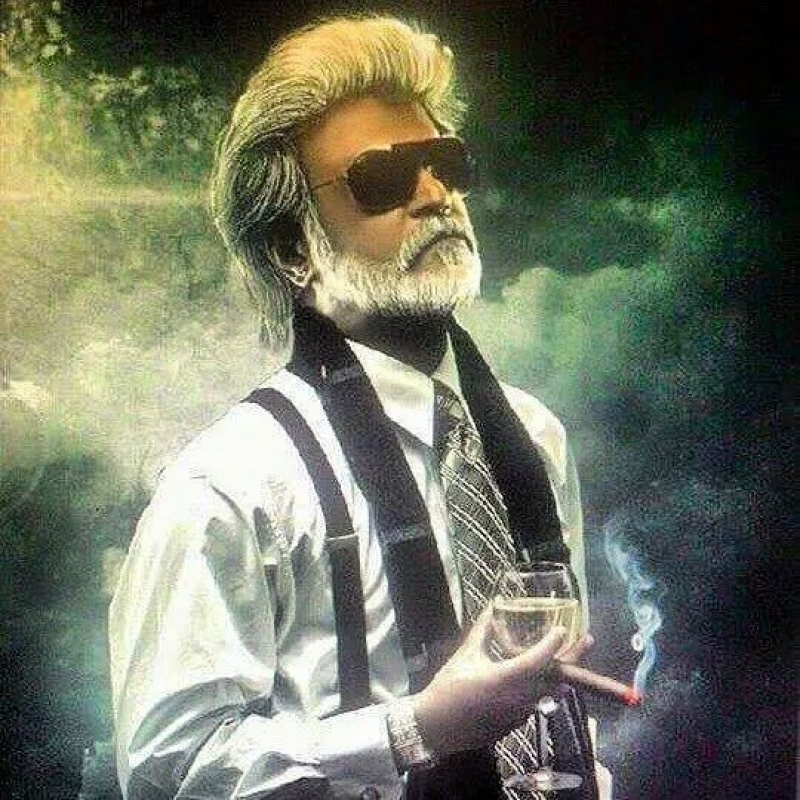cigarette: (547, 657, 651, 705)
